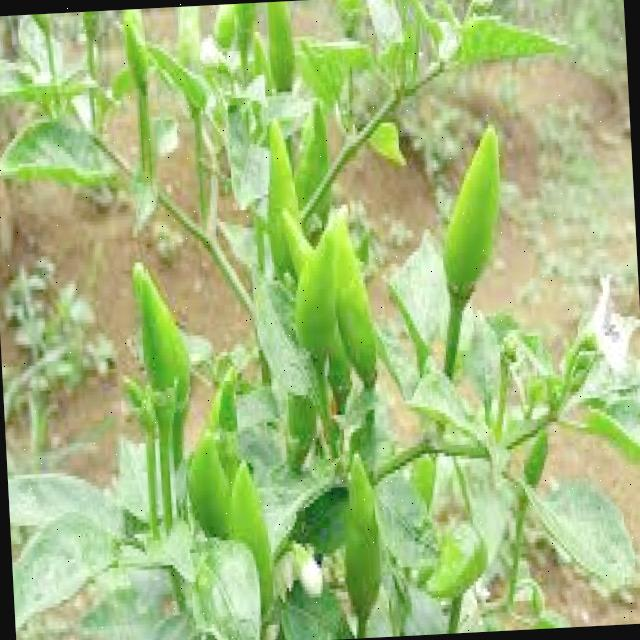healthy: (0, 71, 573, 640)
